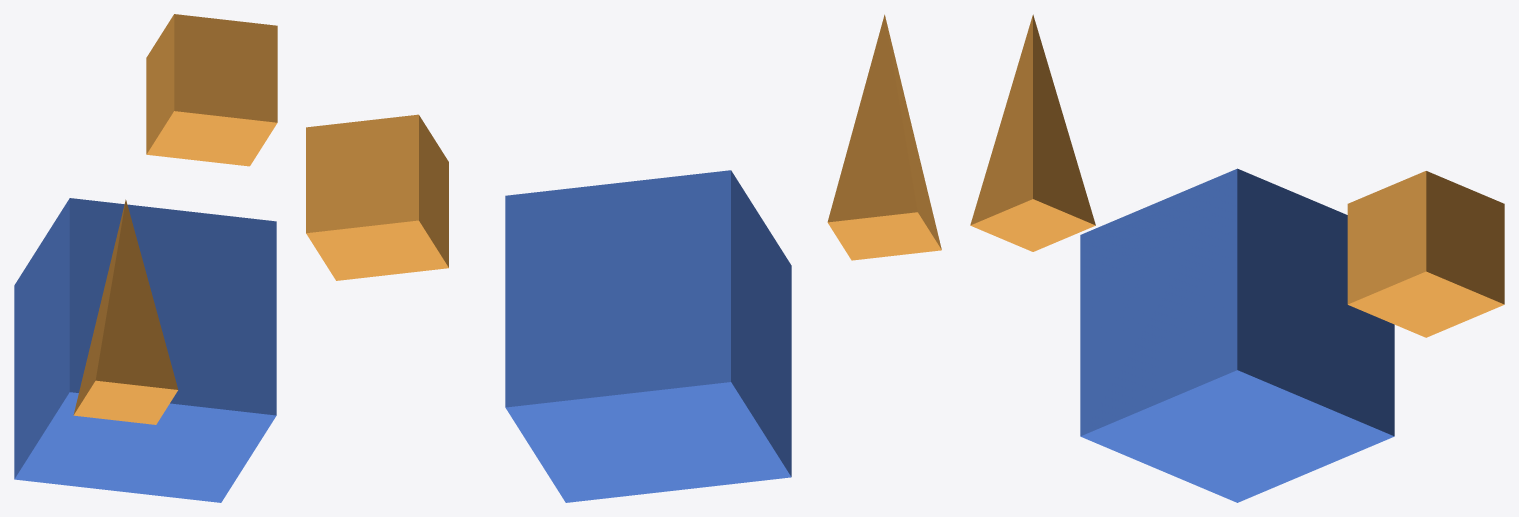
The model's file is robot.gltf.
3 renders of one model, left to right at view 1: azimuth 30°, elevation 25°; view 2: azimuth 150°, elevation 25°; view 3: azimuth 270°, elevation 25°, orthographic. The views are drawn at different scales.
Parts seen in each view (by area): view 1: body-node, head-node, antenna-node; view 2: body-node, head-node, antenna-node; view 3: body-node, head-node, antenna-node.
Part boxes in pixels (box(x1,y1,x2,y2)): body-node: box(14, 198, 276, 502); head-node: box(146, 14, 277, 166); antenna-node: box(73, 199, 178, 424); body-node: box(505, 170, 791, 502); head-node: box(306, 114, 448, 280); antenna-node: box(827, 14, 941, 260); body-node: box(1080, 168, 1394, 502); head-node: box(1347, 171, 1504, 337); antenna-node: box(970, 14, 1095, 251).
Size of the model in its own units: 2.12 by 1.8 by 2.4.
